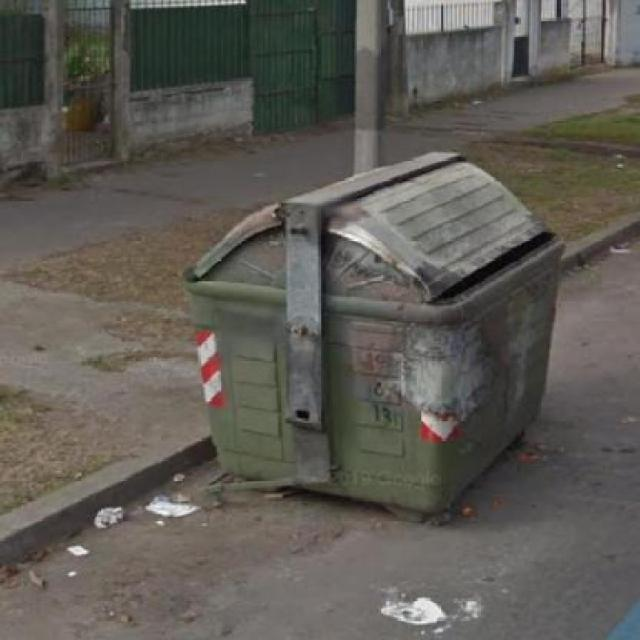garbage: (128, 489, 195, 543), (86, 500, 150, 548)
